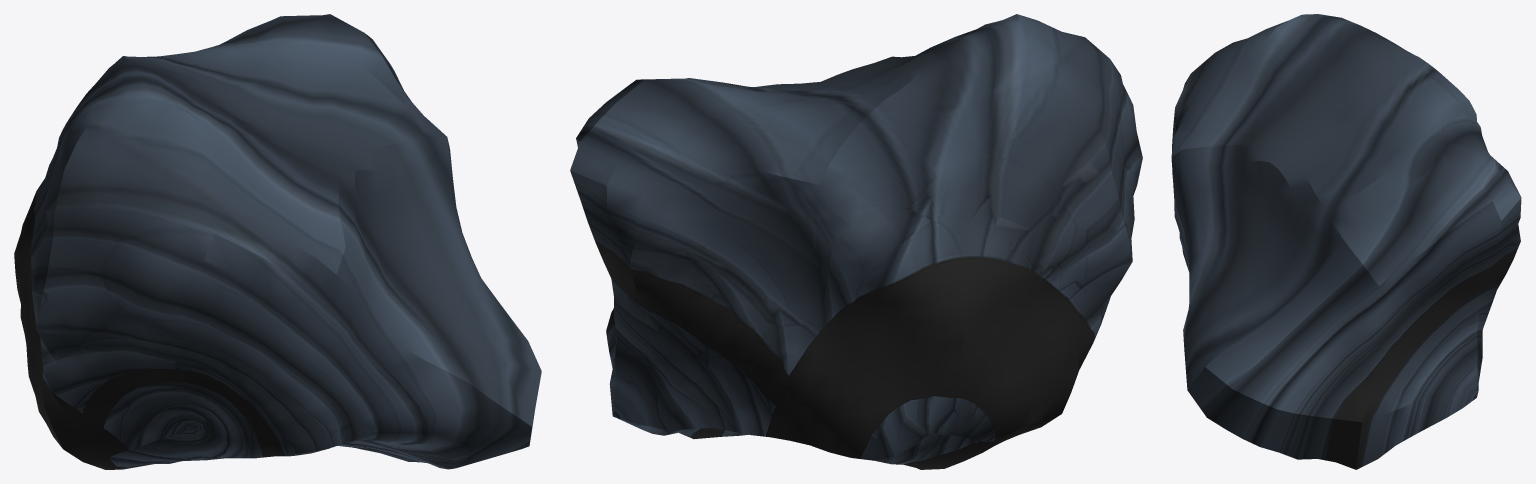
File: Rocks1.glb
3 views of the same model, side by side, from view 1: azimuth 30°, elevation 25°; view 2: azimuth 150°, elevation 25°; view 3: azimuth 270°, elevation 25° (orthographic). The views are drawn at different scales.
Parts seen in each view (by area): view 1: Asset3DLoader.sceneRoot; view 2: Asset3DLoader.sceneRoot; view 3: Asset3DLoader.sceneRoot.
Part boxes in pixels (box(x1,y1,x2,y2)): Asset3DLoader.sceneRoot: box(14, 14, 541, 469); Asset3DLoader.sceneRoot: box(570, 14, 1142, 469); Asset3DLoader.sceneRoot: box(1171, 14, 1521, 469).
Bounding box in the file's own units: 0.7256 × 0.6509 × 0.611.
1 material, 1 textured.
